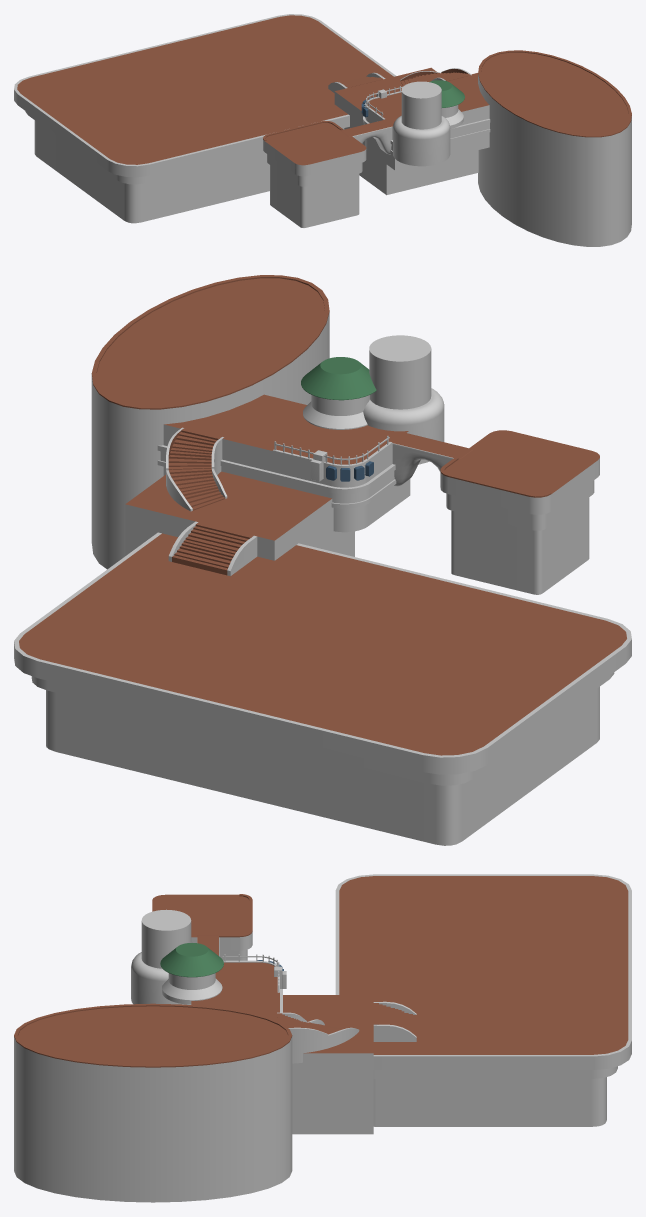
File: city_mockup_01.fbx
3 renders of one model, top to bottom at view 1: azimuth 30°, elevation 25°; view 2: azimuth 150°, elevation 25°; view 3: azimuth 270°, elevation 25°, orthographic. The views are drawn at different scales.
Parts seen in each view (by area): view 1: city_mockup_01; view 2: city_mockup_01; view 3: city_mockup_01.
Boxes of the visible parts, box(x1,y1,x2,y2) form: city_mockup_01: box(14, 14, 631, 246); city_mockup_01: box(14, 275, 631, 845); city_mockup_01: box(14, 874, 631, 1202).
Bounding box in the file's own units: 5220 × 1714 × 5523.
